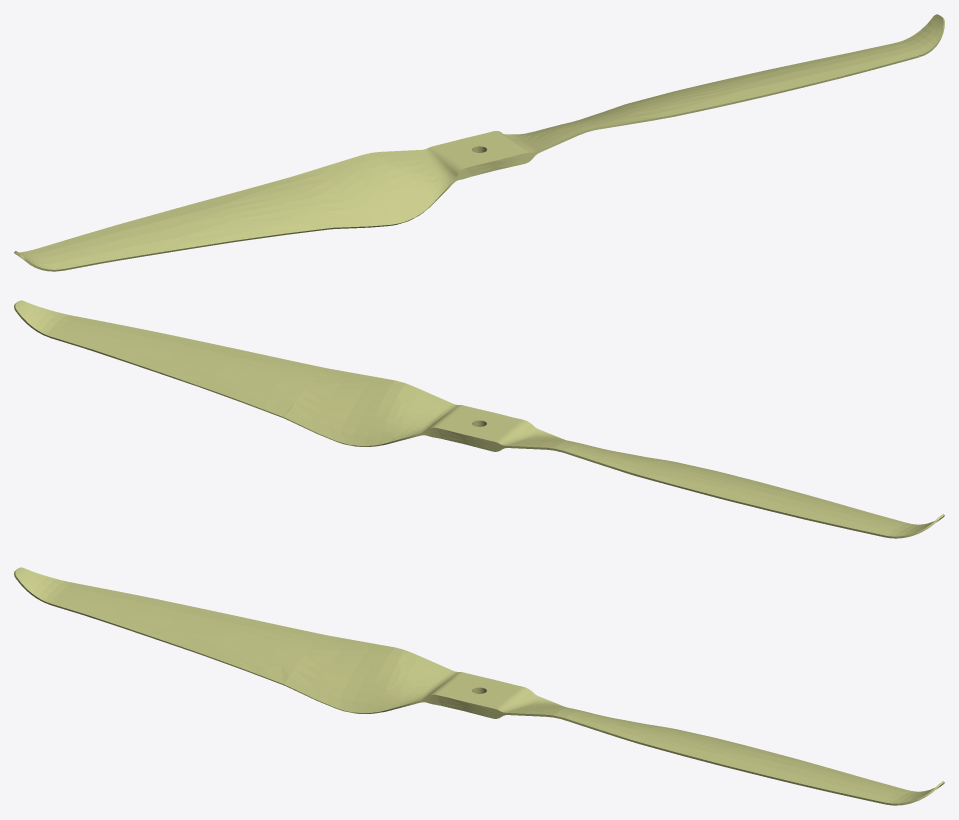
File: case-05_lib00001.glb
3 renders of one model, top to bottom at view 1: azimuth 30°, elevation 25°; view 2: azimuth 150°, elevation 25°; view 3: azimuth 330°, elevation 25°, orthographic. The views are drawn at different scales.
Visible parts, largest first — view 1: lib00001; view 2: lib00001; view 3: lib00001.
Part boxes in pixels (box(x1,y1,x2,y2)): lib00001: box(14, 14, 944, 271); lib00001: box(14, 300, 944, 538); lib00001: box(14, 567, 944, 805).
Size of the model in its own units: 78 by 3.42 by 8.35.
